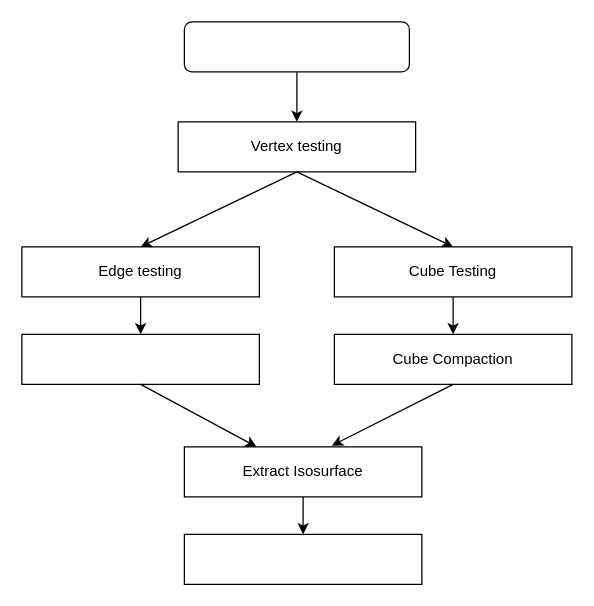
Some shapes in this 594 by 606 pixel diagram are drawn without their labels. Here are the shapes that lost their labels. From the top down, the centre of each, then its label:
At point (296, 46): "Read Volume Data".
At point (140, 358): "Edge Compaction".
At point (302, 558): "Render".
